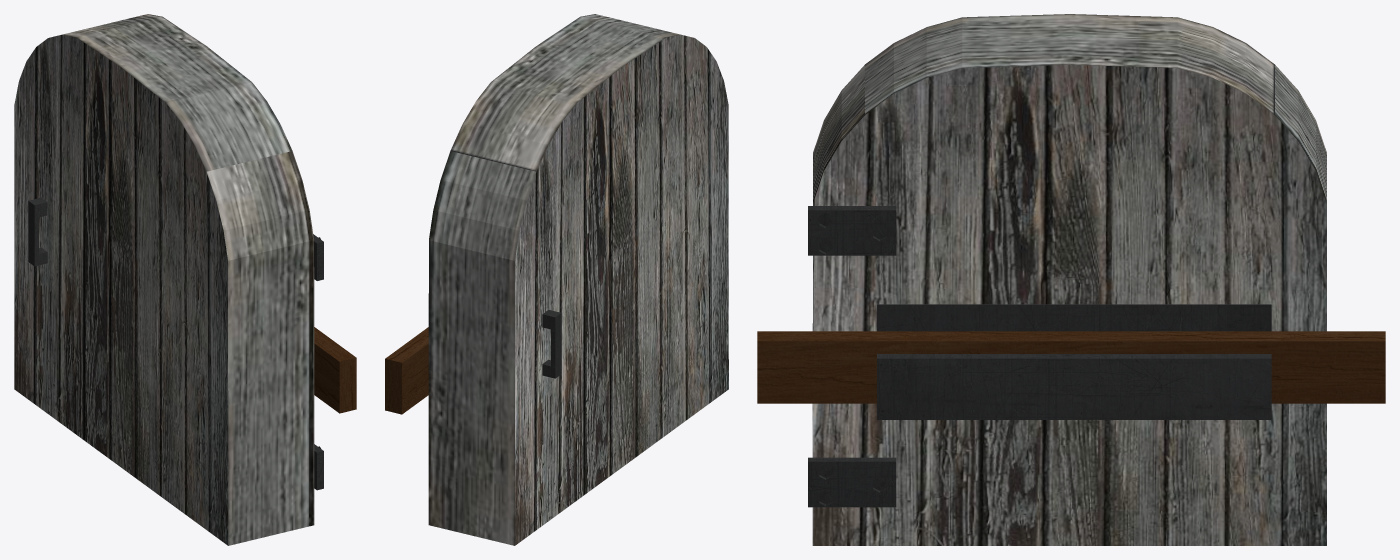
The model's file is DAEdoor.dae.
3 renders of one model, left to right at view 1: azimuth 30°, elevation 25°; view 2: azimuth 150°, elevation 25°; view 3: azimuth 270°, elevation 25°, orthographic. The views are drawn at different scales.
Parts seen in each view (by area): view 1: Door; view 2: Door; view 3: Door.
Part boxes in pixels (x1,y1,x2,y2): Door: [14, 14, 356, 545]; Door: [385, 14, 728, 545]; Door: [757, 14, 1385, 545].
Bounding box in the file's own units: 0.9302 × 3.31 × 2.8.
1 material, 1 textured.
